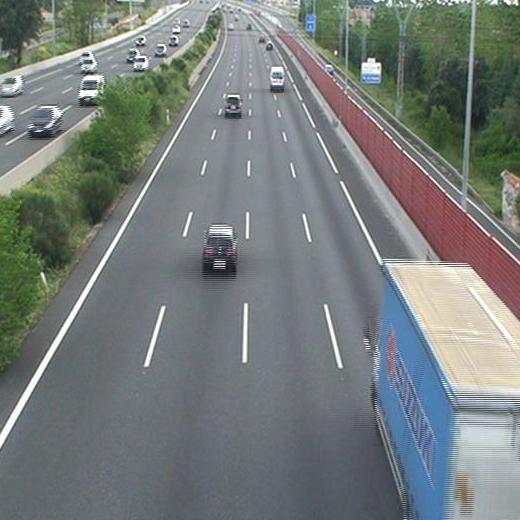car: (203, 225, 236, 269), (224, 94, 242, 115)
small-truck: (371, 262, 519, 520)
van: (269, 66, 284, 89)
